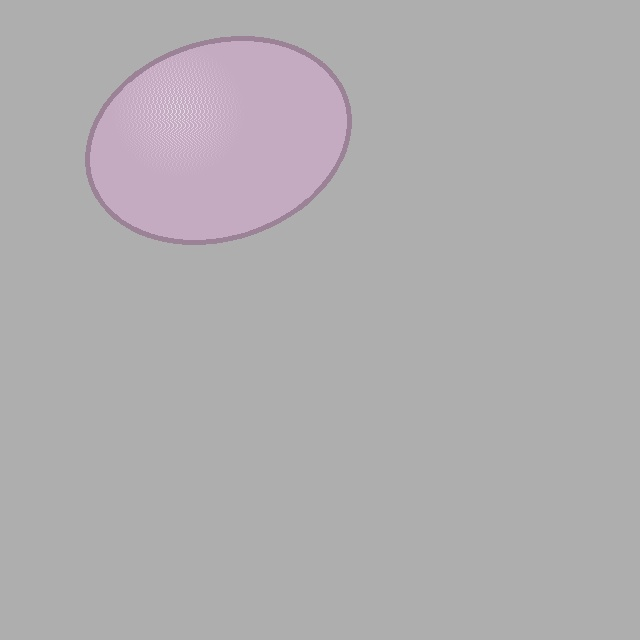lens: (87, 39, 349, 241)
